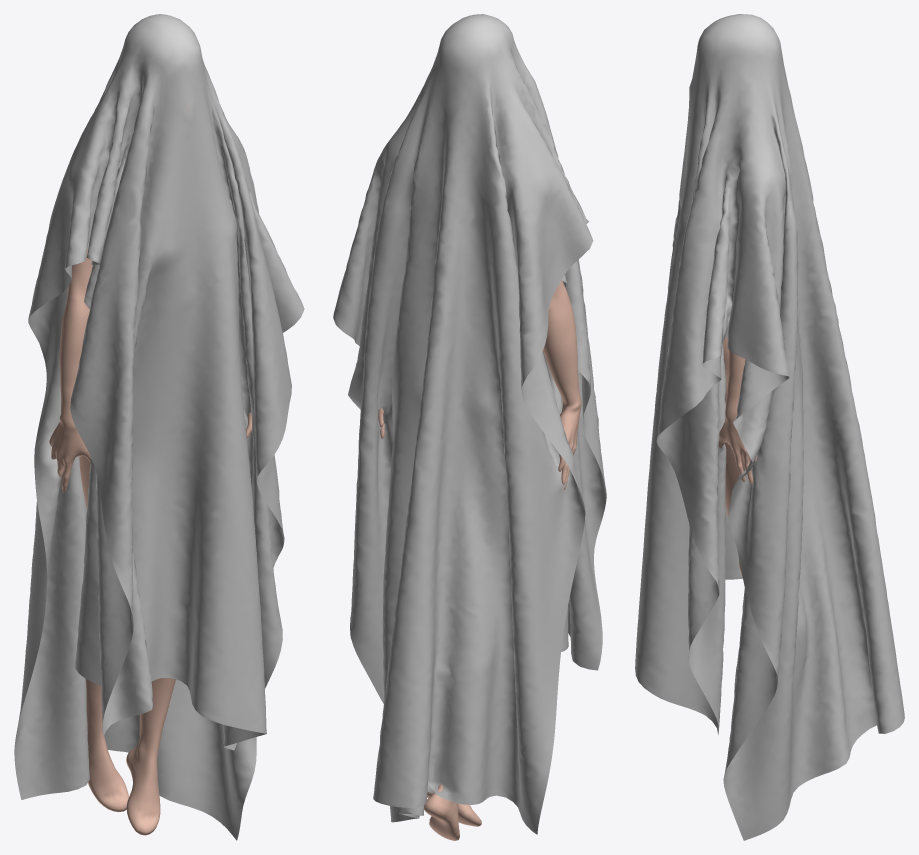
File: cloth ghost.fbx
The picture shows the model from 3 angles, left to right: view 1: azimuth 30°, elevation 25°; view 2: azimuth 150°, elevation 25°; view 3: azimuth 270°, elevation 25°; orthographic projection. The views are drawn at different scales.
Visible parts, largest first — view 1: ee_obj_1; view 2: ee_obj_1; view 3: ee_obj_1.
Part boxes in pixels (x1,y1,x2,y2): ee_obj_1: (14,14,304,840); ee_obj_1: (333,14,606,840); ee_obj_1: (635,14,904,840).
Bounding box in the file's own units: 57.32 × 188 × 58.34.
